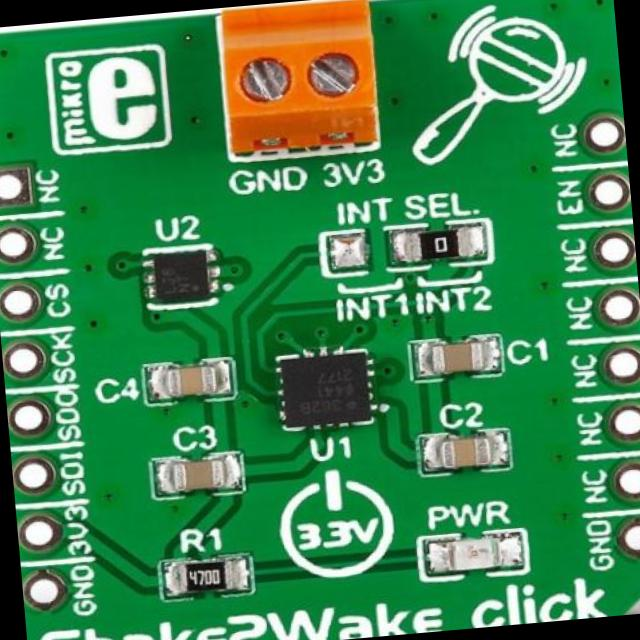IC: (277, 352, 379, 428), (150, 248, 222, 306)
LED: (438, 534, 508, 572)
capacitor: (159, 448, 234, 498), (435, 428, 500, 469), (428, 337, 494, 376), (161, 364, 221, 398)
connector: (214, 0, 379, 164)
resistor: (168, 556, 244, 596), (414, 228, 470, 266)
